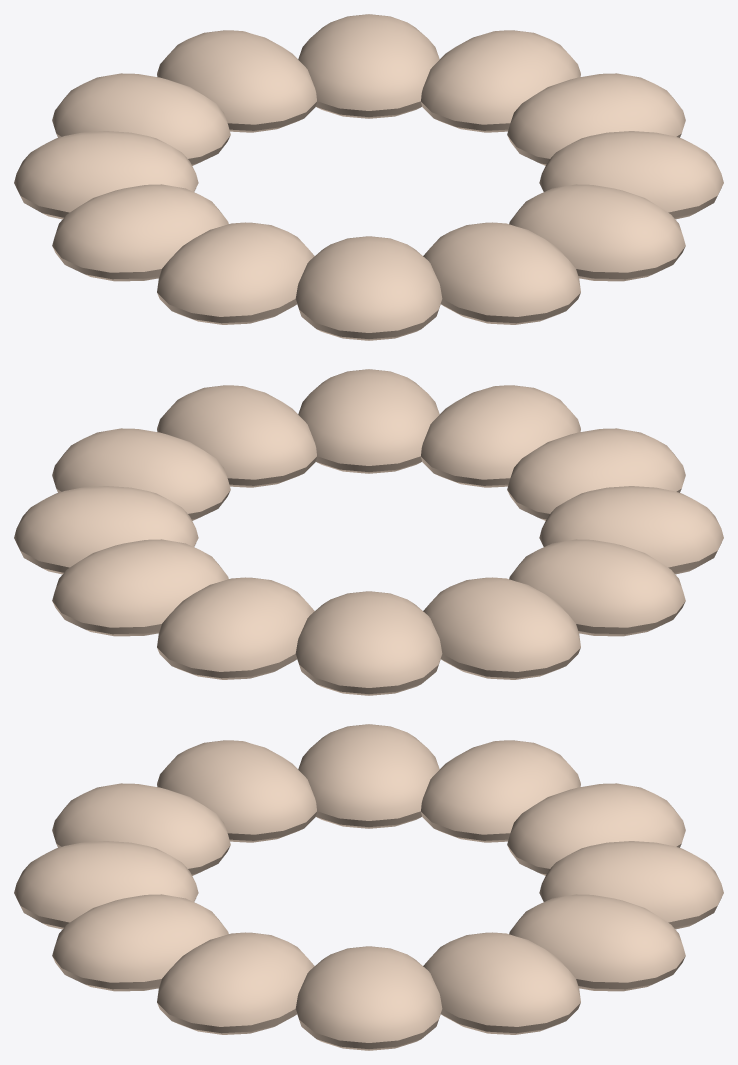
Rendered from cakeFillMeringua.glb.
The picture shows the model from 3 angles, top to bottom: view 1: azimuth 30°, elevation 25°; view 2: azimuth 150°, elevation 25°; view 3: azimuth 270°, elevation 25°; orthographic projection.
Parts seen in each view (by area): view 1: Cube.008, Cube.009, Cube.007, Cube.010, Cube.006, Cube.002, Cube.003, Cube.001, Cube.005, Cube.011, Cube.004, Cube; view 2: Cube.004, Cube.005, Cube.003, Cube.006, Cube.002, Cube.010, Cube.011, Cube.009, Cube.001, Cube.007, Cube.008, Cube; view 3: Cube, Cube.001, Cube.011, Cube.002, Cube.010, Cube.006, Cube.007, Cube.005, Cube.003, Cube.009, Cube.004, Cube.008.
Part boxes in pixels (x1=…): Cube.008: x1=295, y1=236, x2=442, y2=340; Cube.009: x1=423, y1=222, x2=580, y2=324; Cube.007: x1=157, y1=222, x2=314, y2=324; Cube.010: x1=509, y1=184, x2=685, y2=281; Cube.006: x1=52, y1=184, x2=228, y2=281; Cube.002: x1=298, y1=14, x2=439, y2=118; Cube.003: x1=157, y1=30, x2=316, y2=132; Cube.001: x1=421, y1=30, x2=580, y2=132; Cube.005: x1=14, y1=131, x2=198, y2=219; Cube.011: x1=539, y1=131, x2=723, y2=219; Cube.004: x1=52, y1=73, x2=230, y2=165; Cube: x1=507, y1=73, x2=685, y2=165; Cube.004: x1=295, y1=591, x2=442, y2=695; Cube.005: x1=423, y1=577, x2=580, y2=679; Cube.003: x1=157, y1=577, x2=314, y2=679; Cube.006: x1=509, y1=539, x2=685, y2=636; Cube.002: x1=52, y1=539, x2=228, y2=636; Cube.010: x1=298, y1=369, x2=439, y2=473; Cube.011: x1=157, y1=385, x2=316, y2=487; Cube.009: x1=421, y1=385, x2=580, y2=487; Cube.001: x1=14, y1=486, x2=198, y2=574; Cube.007: x1=539, y1=486, x2=723, y2=574; Cube.008: x1=507, y1=428, x2=685, y2=520; Cube: x1=52, y1=428, x2=230, y2=520; Cube: x1=295, y1=946, x2=442, y2=1050; Cube.001: x1=423, y1=932, x2=580, y2=1034; Cube.011: x1=157, y1=932, x2=314, y2=1034; Cube.002: x1=509, y1=894, x2=685, y2=991; Cube.010: x1=52, y1=894, x2=228, y2=991; Cube.006: x1=298, y1=724, x2=439, y2=828; Cube.007: x1=157, y1=740, x2=316, y2=842; Cube.005: x1=421, y1=740, x2=580, y2=842; Cube.003: x1=539, y1=841, x2=723, y2=929; Cube.009: x1=14, y1=841, x2=198, y2=929; Cube.004: x1=507, y1=783, x2=685, y2=875; Cube.008: x1=52, y1=783, x2=230, y2=875.
Bounding box in the file's own units: 1.98 × 0.1982 × 1.98.
